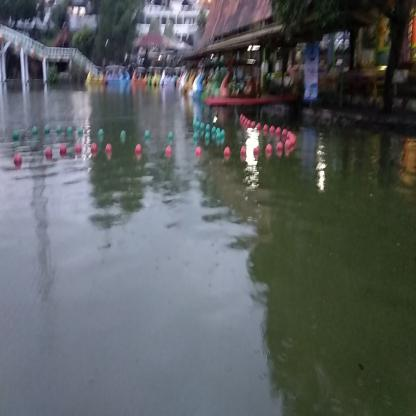green_buoy: (98, 128, 104, 139), (32, 127, 38, 137), (13, 132, 19, 142), (216, 133, 222, 142), (121, 130, 126, 140), (145, 130, 150, 140), (67, 127, 72, 136), (45, 126, 50, 134), (169, 132, 174, 140), (194, 131, 198, 141), (205, 133, 210, 141), (78, 129, 83, 136), (57, 127, 61, 133)
red_buoy: (90, 143, 98, 157), (45, 147, 53, 161), (14, 154, 22, 168), (60, 144, 67, 157), (241, 144, 247, 159), (106, 143, 113, 155), (135, 144, 142, 156), (266, 144, 272, 158), (254, 145, 260, 159), (165, 146, 172, 158), (277, 143, 283, 155), (224, 146, 230, 158), (285, 141, 290, 155), (76, 146, 82, 155), (196, 146, 200, 156)
